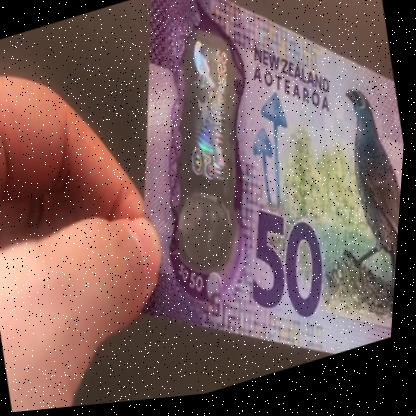50B: (155, 23, 271, 263)
